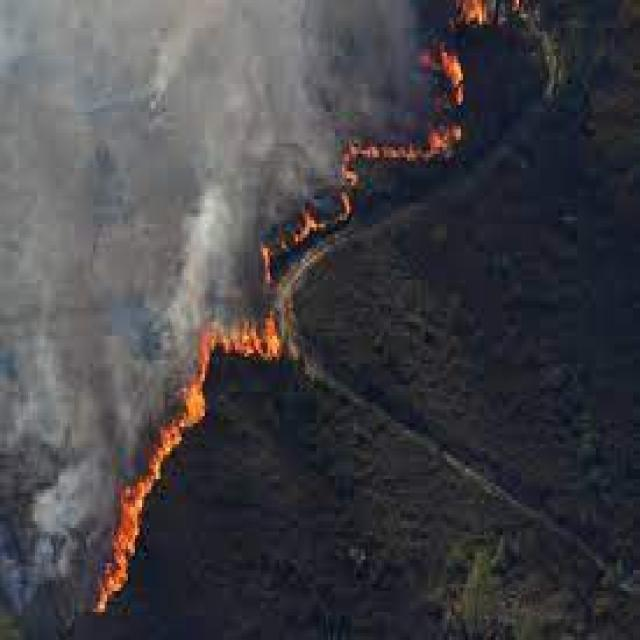Fire: (94, 460, 156, 610), (251, 196, 352, 270), (332, 130, 445, 186), (438, 7, 471, 180), (196, 314, 300, 362), (158, 377, 218, 448), (457, 0, 512, 33)
Smoke: (0, 0, 248, 363), (0, 0, 454, 181), (0, 8, 107, 601)
